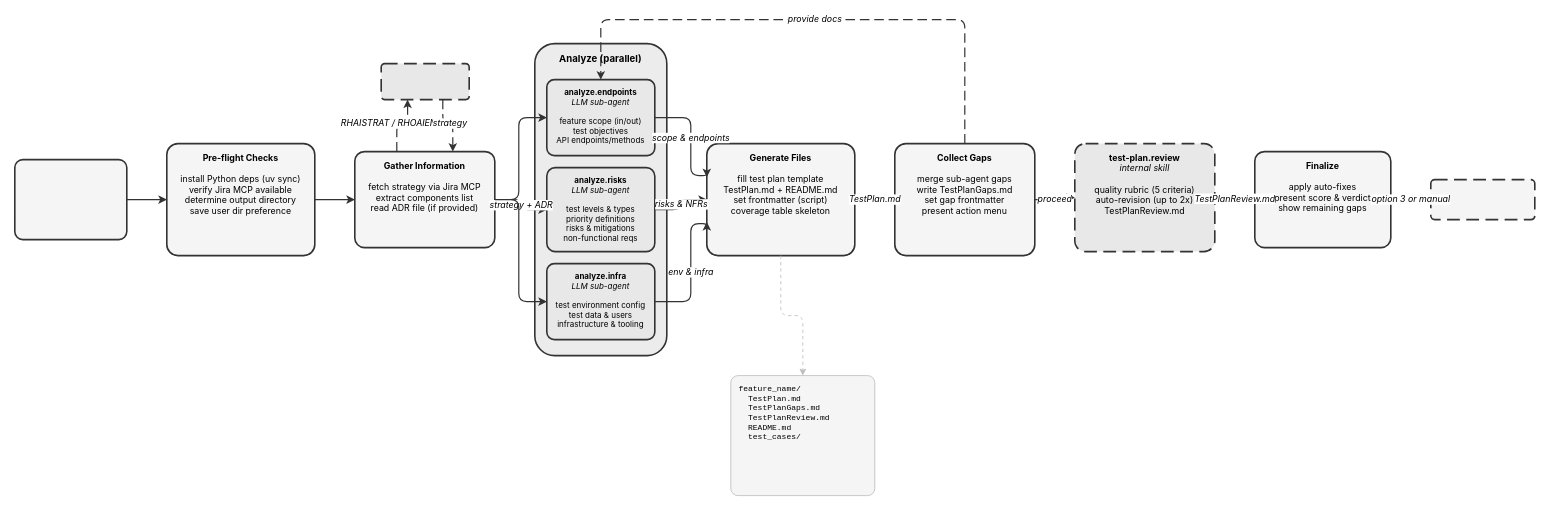
The diagram is 1549 pixels wide and 510 high, and some of its shapes have lost their labels. Each missing label, with the centre of its shape:
"/test-plan-create JIRA_KEY (required) ADR_FILE_PATH (optional)" goes at (70,199).
"/test-plan-create-cases" goes at (1482,199).
"Jira MCP" goes at (425,81).
